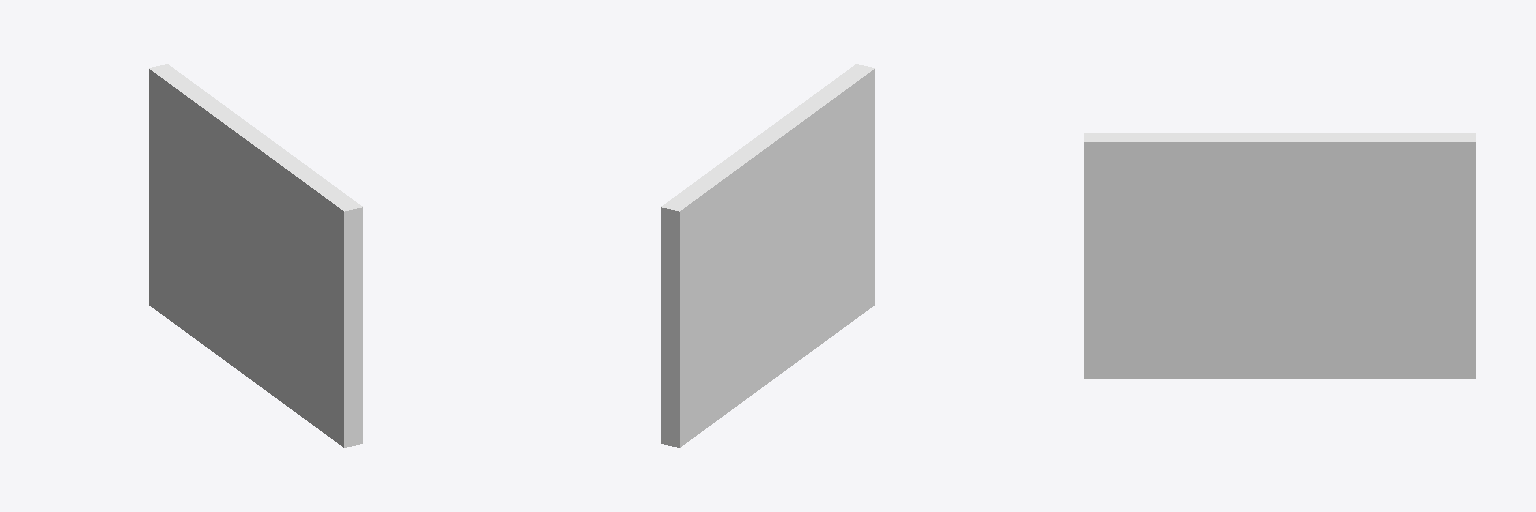
File: painting:r-m-poster.obj
3 renders of one model, left to right at view 1: azimuth 30°, elevation 25°; view 2: azimuth 150°, elevation 25°; view 3: azimuth 270°, elevation 25°, orthographic.
Parts seen in each view (by area): view 1: painting:R-M-Poster; view 2: painting:R-M-Poster; view 3: painting:R-M-Poster.
Part boxes in pixels (x1,y1,x2,y2): painting:R-M-Poster: (149,64,362,447); painting:R-M-Poster: (661,64,874,447); painting:R-M-Poster: (1084,133,1475,378).
Bounding box in the file's own units: 1 × 12 × 18.